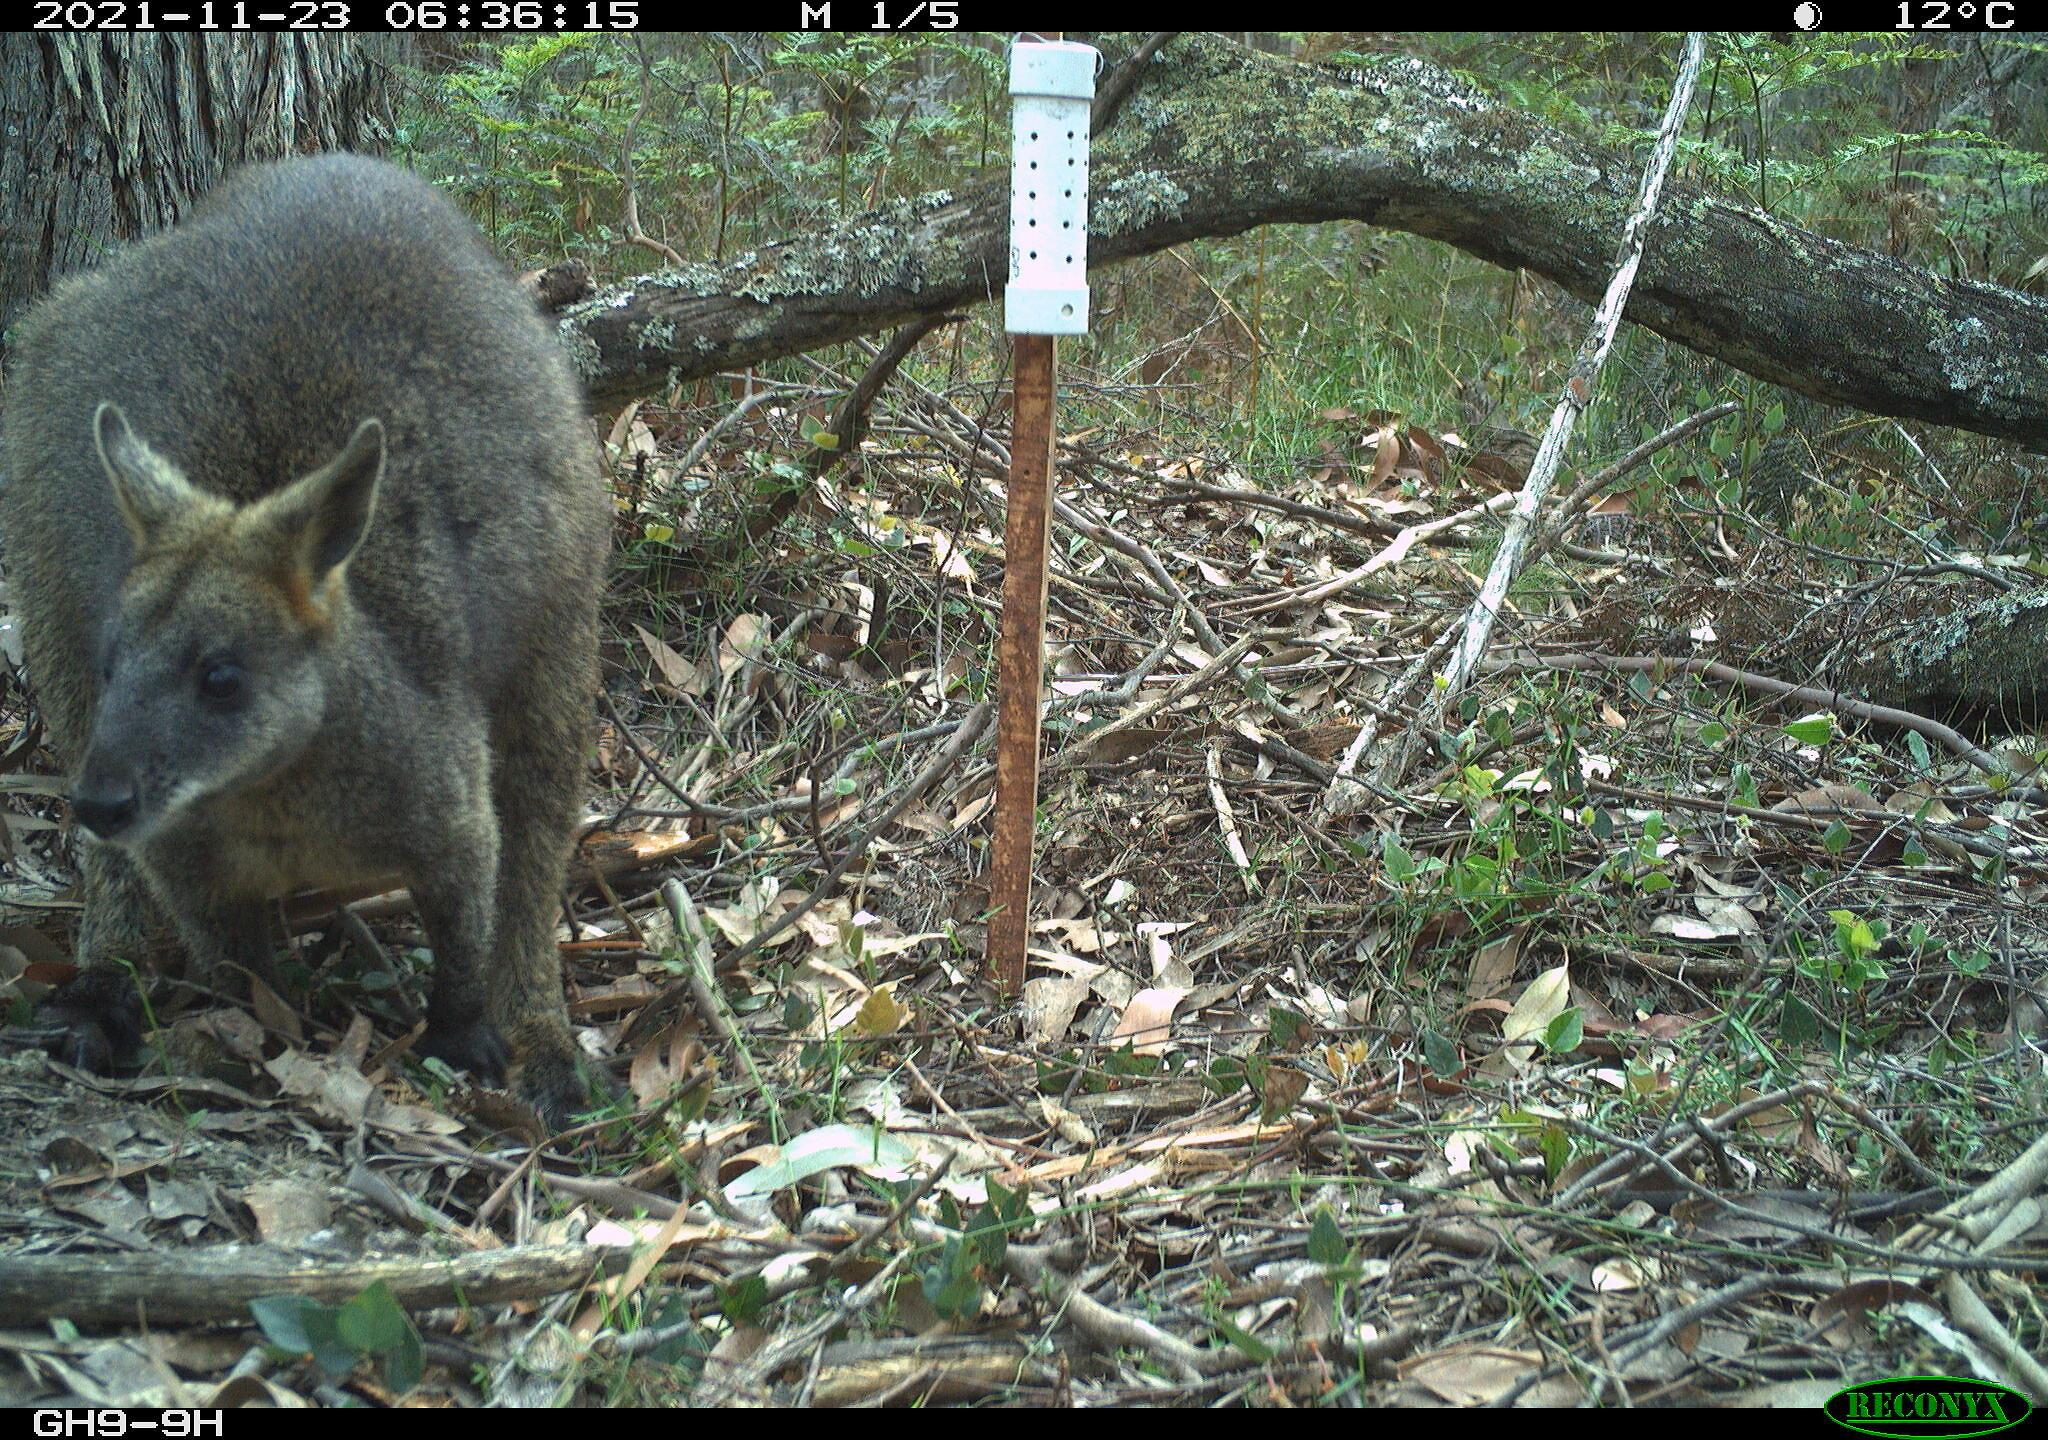Swamp wallaby: (0, 150, 619, 1156)
